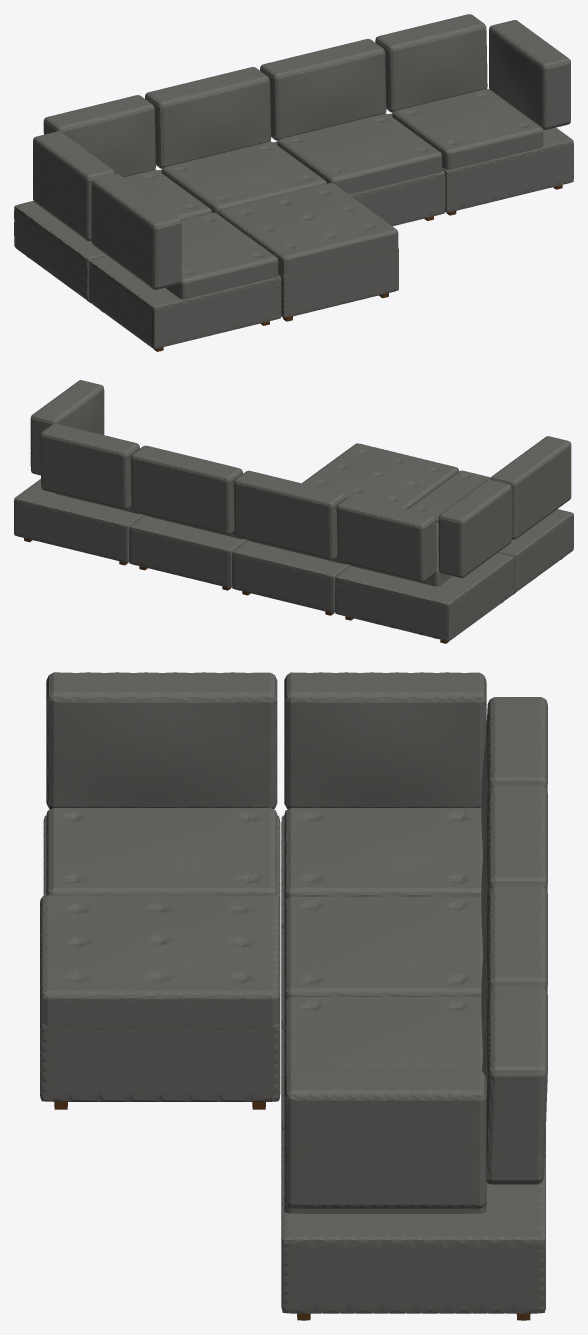
The model's file is tisdale.glb.
The picture shows the model from 3 angles, top to bottom: view 1: azimuth 30°, elevation 25°; view 2: azimuth 150°, elevation 25°; view 3: azimuth 270°, elevation 25°; orthographic projection. The views are drawn at different scales.
Parts seen in each view (by area): view 1: upholstery; view 2: upholstery; view 3: upholstery.
Part boxes in pixels (x1=…): upholstery: x1=14, y1=14, x2=573, y2=348; upholstery: x1=14, y1=380, x2=573, y2=641; upholstery: x1=40, y1=672, x2=547, y2=1313.
Size of the model in its own units: 3.65 by 0.933 by 1.84.
Materials: 2 (2 with a texture image).
